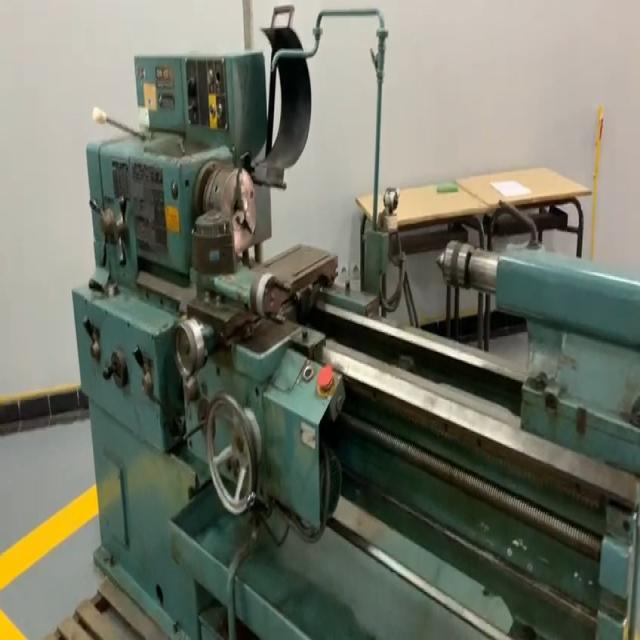tour parallele: (71, 5, 640, 640)
